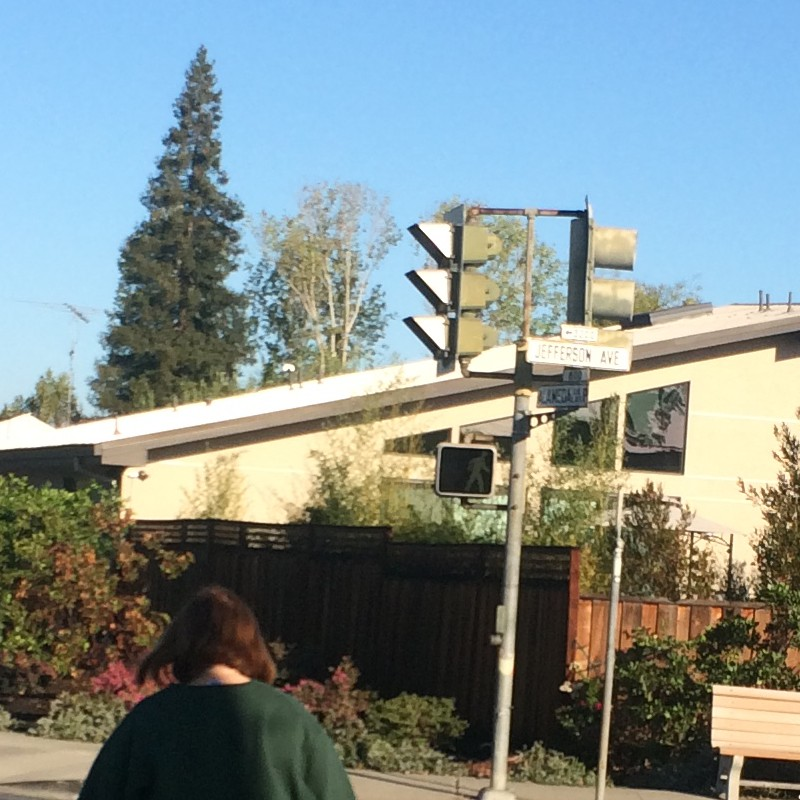go: (432, 441, 500, 503)
